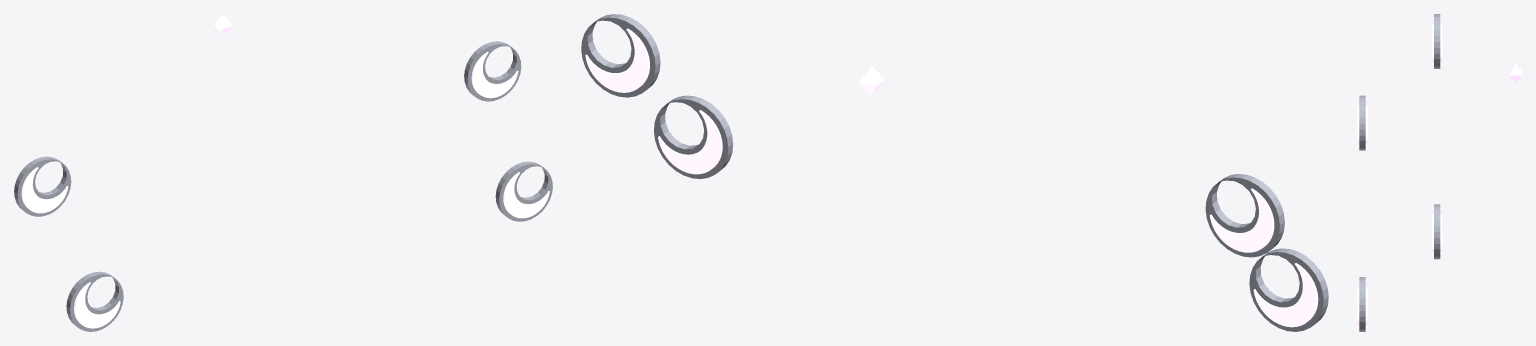
Rendered from PORTAO_ShadowGarden_12_VFX_HELPERS_4a3879.fbx.
3 views of the same model, side by side, from view 1: azimuth 30°, elevation 25°; view 2: azimuth 150°, elevation 25°; view 3: azimuth 270°, elevation 25° (orthographic). The views are drawn at different scales.
Parts seen in each view (by area): view 1: VFX_GATE_ShadowGarden_Moon_3__Metal_GateSG_Silver, VFX_GATE_ShadowGarden_Moon_2__Metal_GateSG_Silver, VFX_GATE_ShadowGarden_Moon_1__Metal_GateSG_Silver, VFX_GATE_ShadowGarden_Moon_4__Metal_GateSG_Silver, VFX_GATE_ShadowGarden_Moon_2__Crystal_Purple_Core, VFX_GATE_ShadowGarden_Moon_4__Crystal_Purple_Core, VFX_GATE_ShadowGarden_Moon_3__Crystal_Purple_Core, VFX_GATE_ShadowGarden_Moon_1__Crystal_Purple_Core; view 2: VFX_GATE_ShadowGarden_Moon_4__Metal_GateSG_Silver, VFX_GATE_ShadowGarden_Moon_2__Metal_GateSG_Silver, VFX_GATE_ShadowGarden_Moon_1__Metal_GateSG_Silver, VFX_GATE_ShadowGarden_Moon_3__Metal_GateSG_Silver, VFX_GATE_ShadowGarden_Moon_3__Crystal_Purple_Core, VFX_GATE_ShadowGarden_Moon_1__Crystal_Purple_Core, VFX_GATE_ShadowGarden_Moon_4__Crystal_Purple_Core, VFX_GATE_ShadowGarden_Moon_2__Crystal_Purple_Core; view 3: VFX_GATE_ShadowGarden_Moon_2__Metal_GateSG_Silver, VFX_GATE_ShadowGarden_Moon_4__Metal_GateSG_Silver, VFX_GATE_ShadowGarden_Moon_1__Metal_GateSG_Silver, VFX_GATE_ShadowGarden_Moon_3__Metal_GateSG_Silver, VFX_GATE_ShadowGarden_Moon_2__Crystal_Purple_Core, VFX_GATE_ShadowGarden_Moon_1__Crystal_Purple_Core, VFX_GATE_ShadowGarden_Moon_3__Crystal_Purple_Core, VFX_GATE_ShadowGarden_Moon_4__Crystal_Purple_Core, VFX_GATE_ShadowGarden_Gem__Crystal_Purple_Core.
Boxes of the visible parts, x1,y1,x2,y2 form: VFX_GATE_ShadowGarden_Moon_3__Metal_GateSG_Silver: [495, 161, 552, 221]; VFX_GATE_ShadowGarden_Moon_2__Metal_GateSG_Silver: [66, 271, 123, 331]; VFX_GATE_ShadowGarden_Moon_1__Metal_GateSG_Silver: [14, 156, 71, 216]; VFX_GATE_ShadowGarden_Moon_4__Metal_GateSG_Silver: [464, 41, 521, 101]; VFX_GATE_ShadowGarden_Moon_2__Crystal_Purple_Core: [74, 282, 120, 328]; VFX_GATE_ShadowGarden_Moon_4__Crystal_Purple_Core: [471, 51, 518, 98]; VFX_GATE_ShadowGarden_Moon_3__Crystal_Purple_Core: [503, 172, 549, 218]; VFX_GATE_ShadowGarden_Moon_1__Crystal_Purple_Core: [21, 167, 68, 213]; VFX_GATE_ShadowGarden_Moon_4__Metal_GateSG_Silver: [581, 14, 660, 97]; VFX_GATE_ShadowGarden_Moon_2__Metal_GateSG_Silver: [1249, 248, 1328, 331]; VFX_GATE_ShadowGarden_Moon_1__Metal_GateSG_Silver: [1205, 174, 1284, 257]; VFX_GATE_ShadowGarden_Moon_3__Metal_GateSG_Silver: [654, 95, 733, 178]; VFX_GATE_ShadowGarden_Moon_3__Crystal_Purple_Core: [658, 110, 722, 174]; VFX_GATE_ShadowGarden_Moon_1__Crystal_Purple_Core: [1209, 188, 1274, 252]; VFX_GATE_ShadowGarden_Moon_4__Crystal_Purple_Core: [585, 28, 649, 92]; VFX_GATE_ShadowGarden_Moon_2__Crystal_Purple_Core: [1253, 263, 1318, 327]; VFX_GATE_ShadowGarden_Moon_2__Metal_GateSG_Silver: [1359, 95, 1365, 150]; VFX_GATE_ShadowGarden_Moon_4__Metal_GateSG_Silver: [1434, 204, 1440, 259]; VFX_GATE_ShadowGarden_Moon_1__Metal_GateSG_Silver: [1434, 14, 1440, 68]; VFX_GATE_ShadowGarden_Moon_3__Metal_GateSG_Silver: [1359, 277, 1365, 331]; VFX_GATE_ShadowGarden_Moon_2__Crystal_Purple_Core: [1357, 99, 1367, 146]; VFX_GATE_ShadowGarden_Moon_1__Crystal_Purple_Core: [1431, 18, 1442, 64]; VFX_GATE_ShadowGarden_Moon_3__Crystal_Purple_Core: [1357, 281, 1367, 327]; VFX_GATE_ShadowGarden_Moon_4__Crystal_Purple_Core: [1431, 208, 1442, 254]; VFX_GATE_ShadowGarden_Gem__Crystal_Purple_Core: [1509, 63, 1521, 82].
Size of the model in its own units: 29.1 by 11.07 by 9.27.
